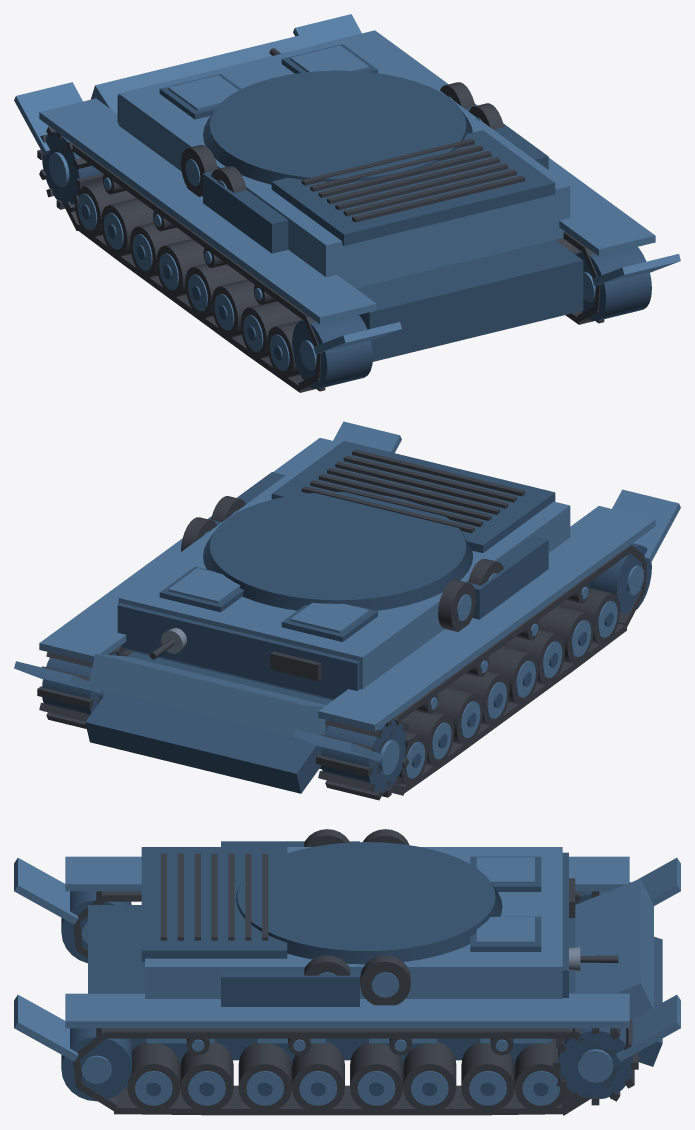
Rendered from Origin_hull.glb.
The picture shows the model from 3 angles, top to bottom: view 1: azimuth 30°, elevation 25°; view 2: azimuth 150°, elevation 25°; view 3: azimuth 270°, elevation 25°; orthographic projection.
Visible parts, largest first — view 1: Origin_Hull; view 2: Origin_Hull; view 3: Origin_Hull.
Boxes of the visible parts, x1,y1,x2,y2 form: Origin_Hull: [14, 14, 680, 392]; Origin_Hull: [14, 421, 680, 800]; Origin_Hull: [14, 829, 680, 1115].
Size of the model in its own units: 3.08 by 1.26 by 5.27.
